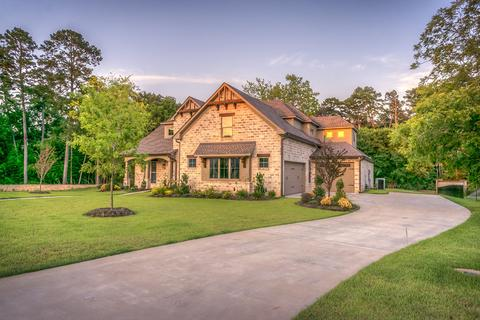tree: (65, 77, 151, 211), (311, 144, 349, 198)
